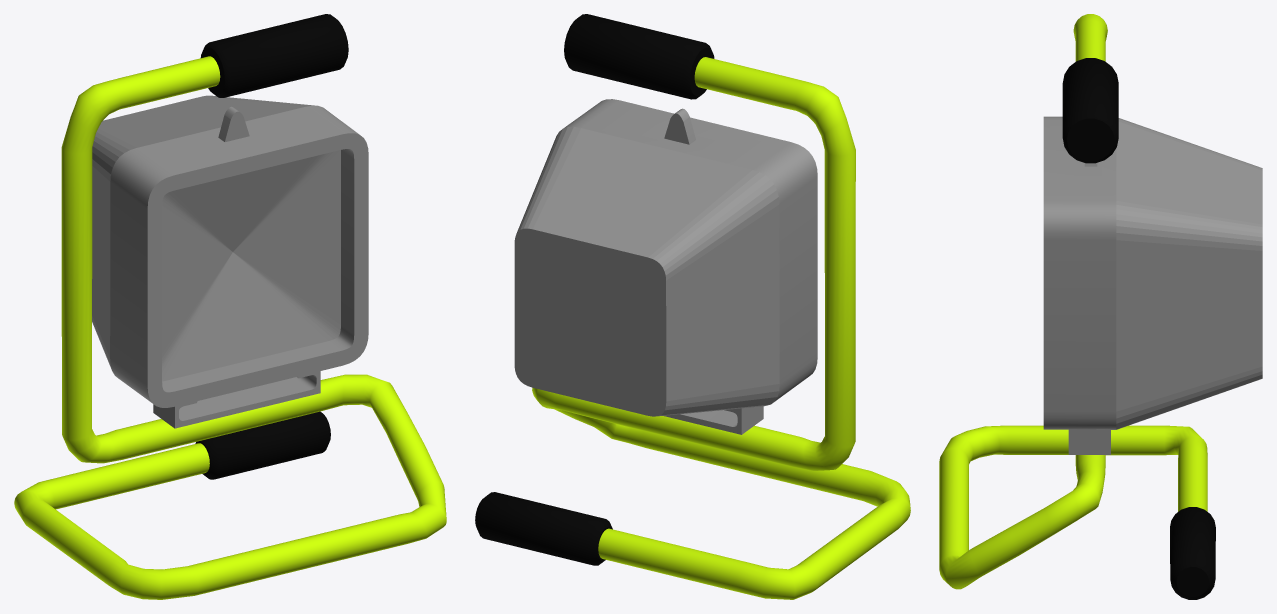
The picture shows the model from 3 angles, left to right: view 1: azimuth 30°, elevation 25°; view 2: azimuth 150°, elevation 25°; view 3: azimuth 270°, elevation 25°; orthographic projection. The views are drawn at different scales.
Visible parts, largest first — view 1: Box001, Cylinder001; view 2: Box001, Cylinder001; view 3: Box001, Cylinder001.
Boxes of the visible parts, x1,y1,x2,y2 form: Box001: (92,95,368,428); Cylinder001: (14,14,446,599); Box001: (514,99,817,434); Cylinder001: (475,14,910,599); Box001: (1043,116,1262,454); Cylinder001: (939,14,1215,599).
Bounding box in the file's own units: 0.583 × 0.8235 × 0.5143.
